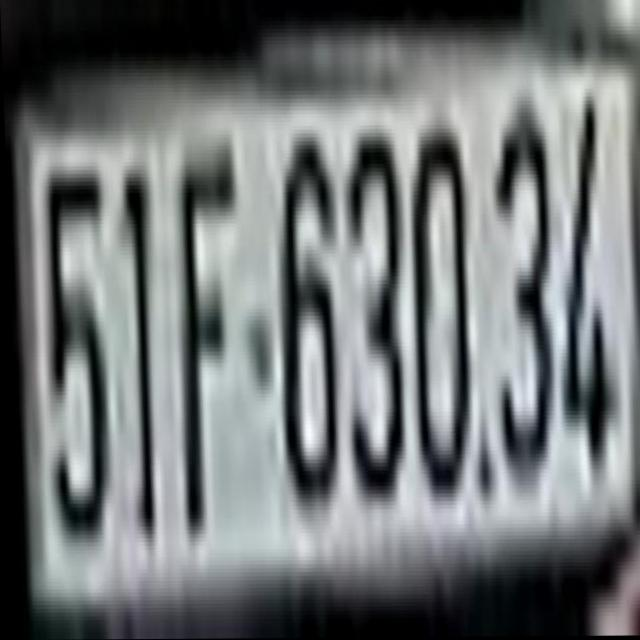0: (407, 94, 472, 525)
1: (119, 162, 152, 577)
3: (483, 105, 557, 502), (337, 118, 406, 514)
4: (550, 85, 624, 478)
5: (43, 158, 107, 543)
6: (269, 115, 344, 530)
F: (172, 127, 252, 546)
